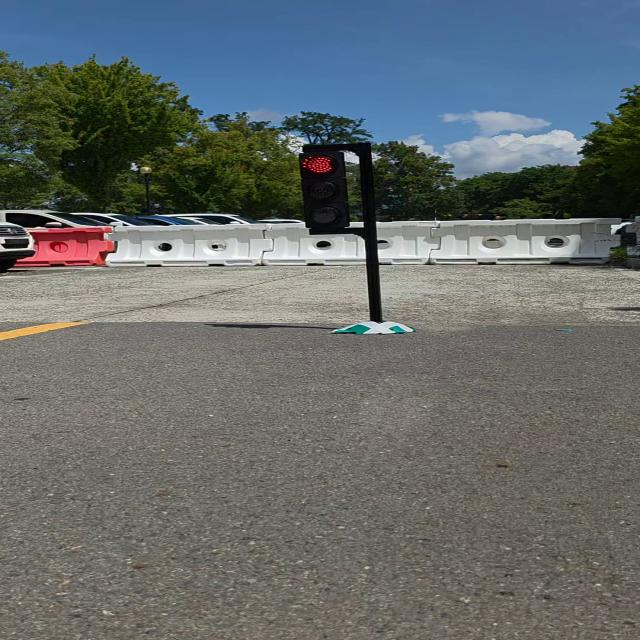red: (292, 146, 364, 233)
